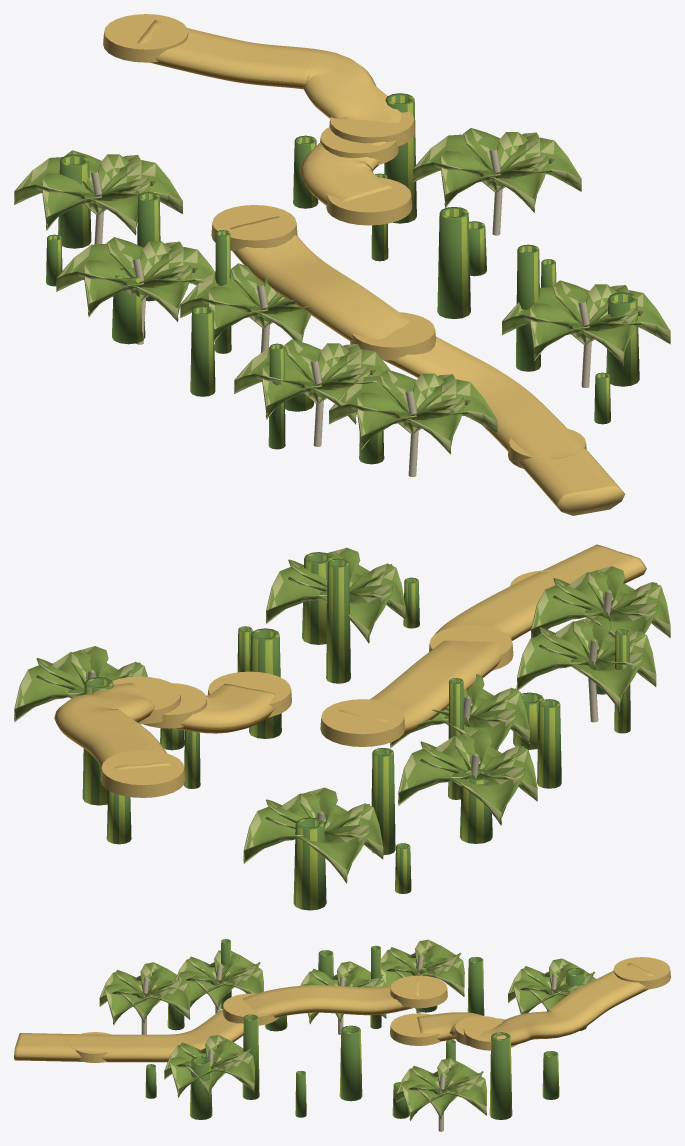
File: soup_landscape.glb
3 renders of one model, top to bottom at view 1: azimuth 30°, elevation 25°; view 2: azimuth 150°, elevation 25°; view 3: azimuth 270°, elevation 25°, orthographic. The views are drawn at different scales.
Parts seen in each view (by area): view 1: soup_landscape_Palette; view 2: soup_landscape_Palette; view 3: soup_landscape_Palette.
Boxes of the visible parts, x1,y1,x2,y2 form: soup_landscape_Palette: [14, 14, 670, 515]; soup_landscape_Palette: [14, 544, 670, 910]; soup_landscape_Palette: [14, 939, 670, 1131].
Size of the model in its own units: 17.18 by 4.97 by 29.45.
